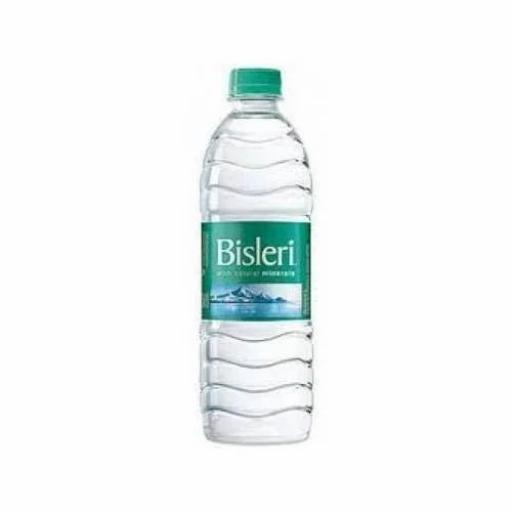bottle: (194, 60, 318, 454)
